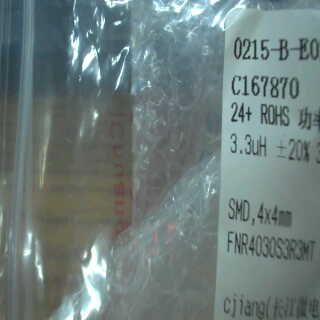3.3uH: (226, 128, 271, 169)
